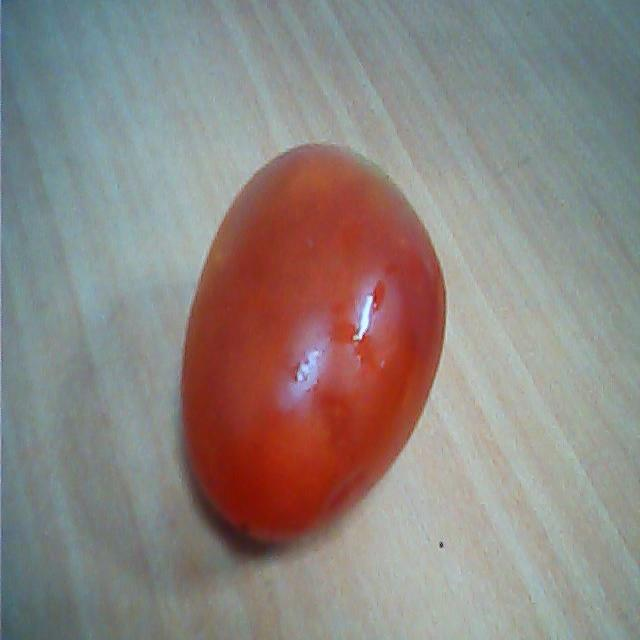maduro: (177, 135, 445, 553)
